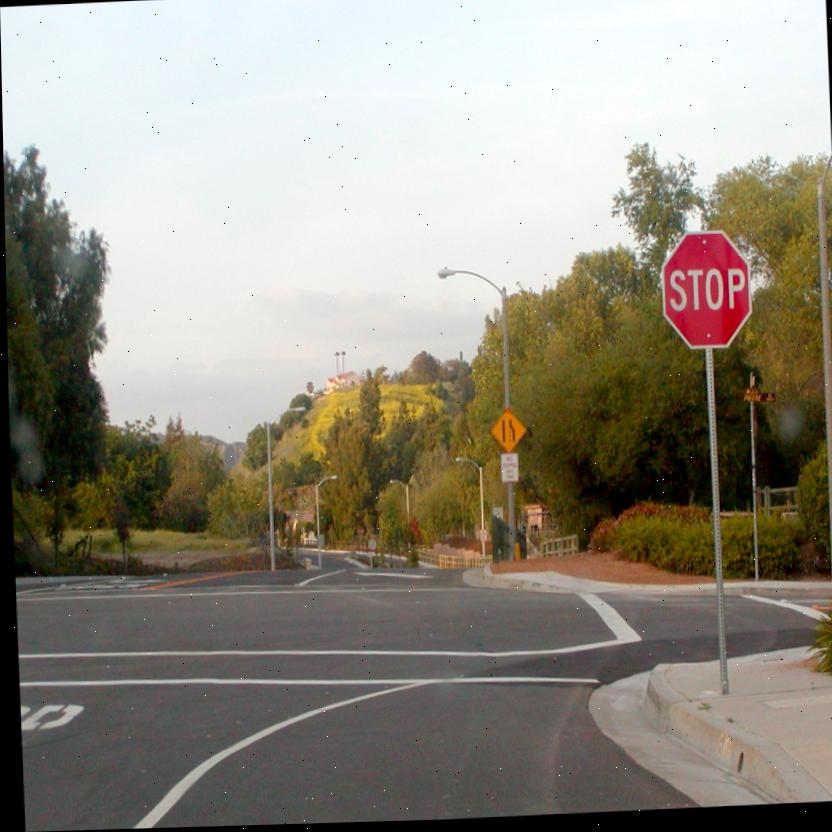Pole: (704, 361, 725, 691), (746, 411, 758, 586)
Sign: (659, 235, 750, 354)
